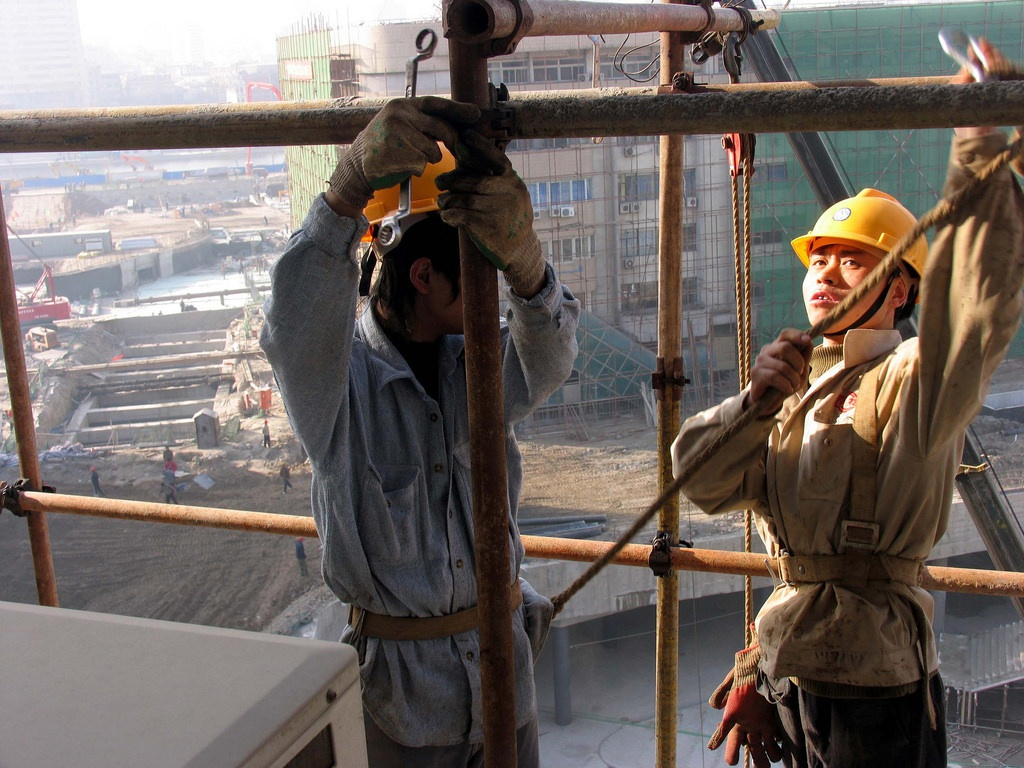yellow: (355, 142, 497, 333), (788, 185, 928, 343)
